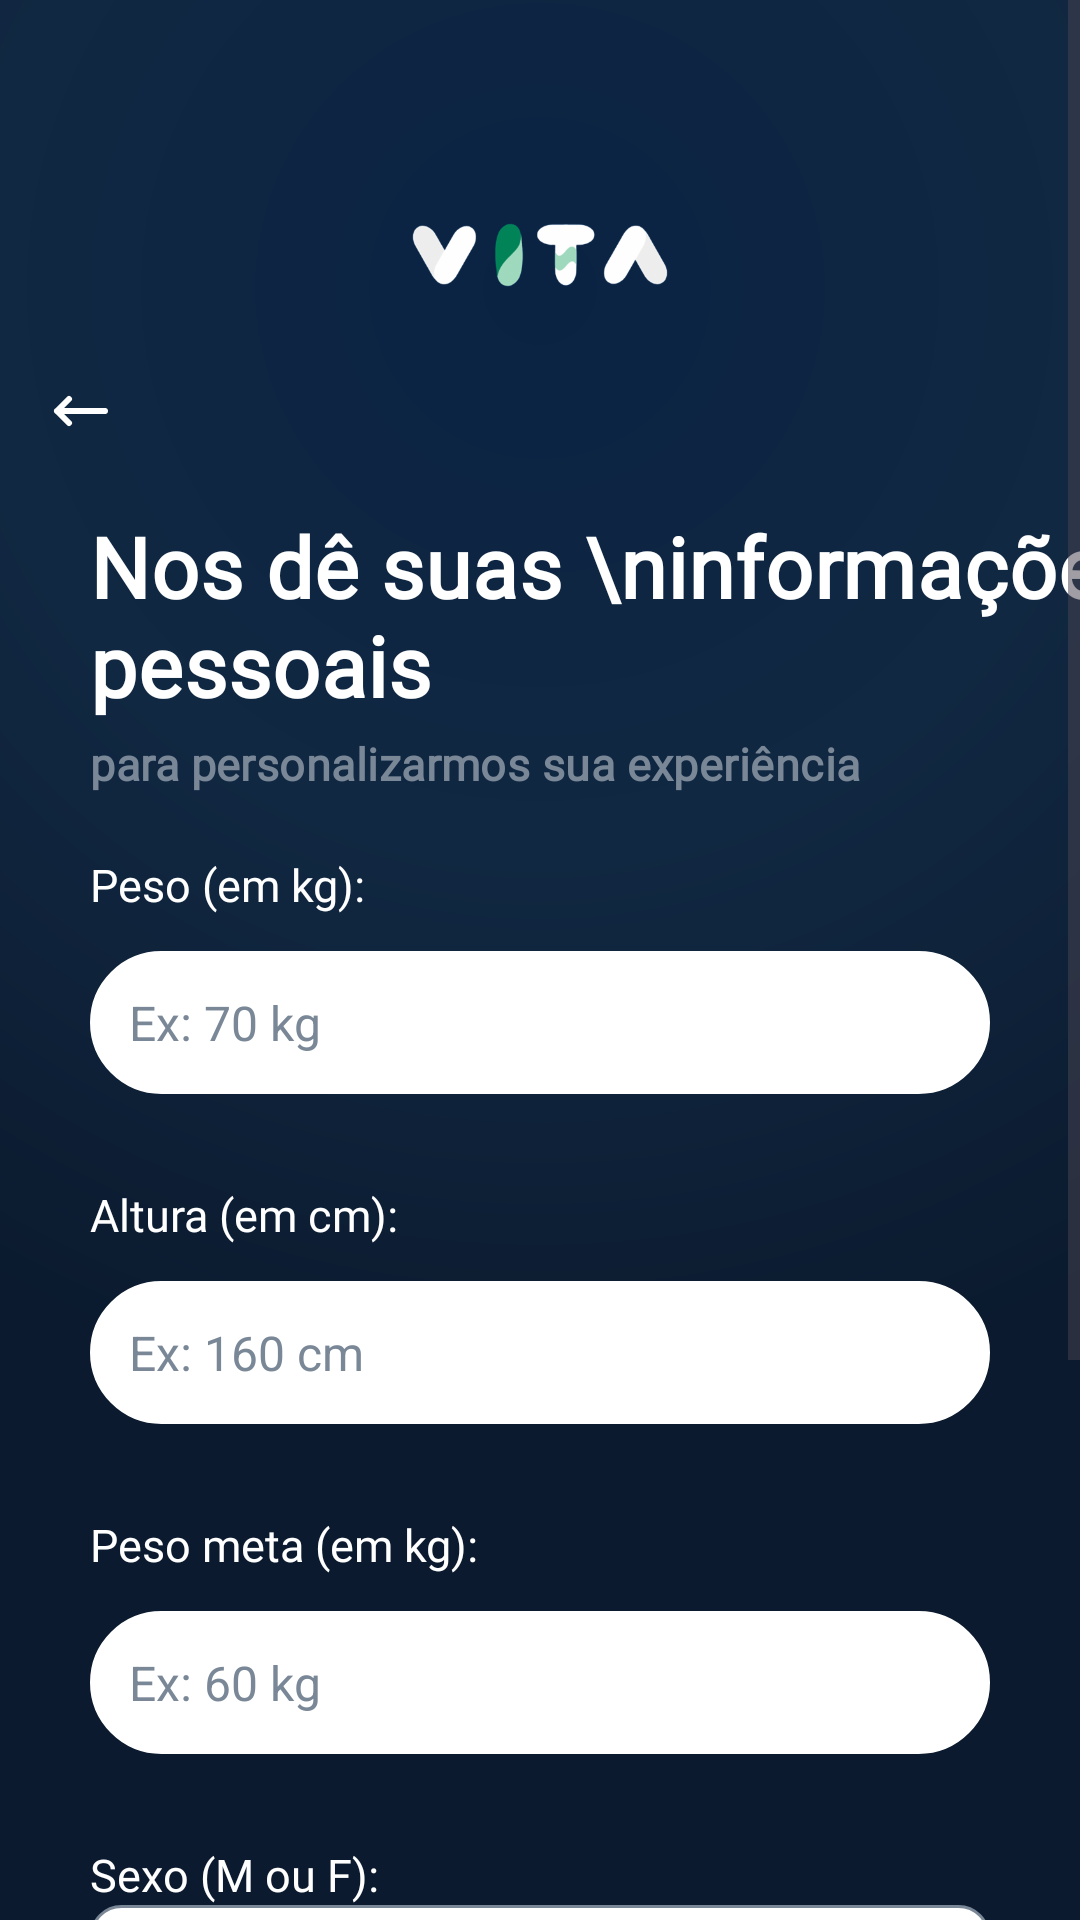

Icon click points for this 1080 × 1920 phone screenshot, format [x,y]:
arrow: [81,411]
